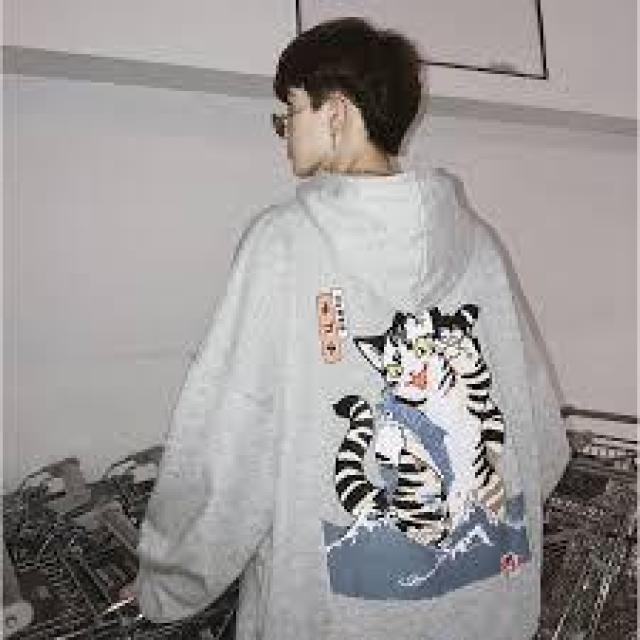sweater: (134, 172, 566, 636)
